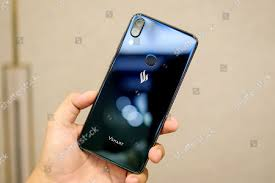vsmart: (68, 11, 201, 178)
